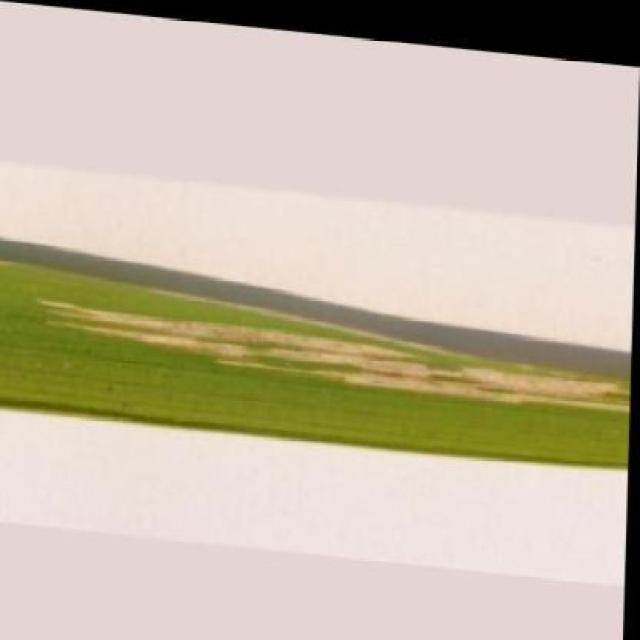Brown_Spot: (0, 256, 634, 464)
